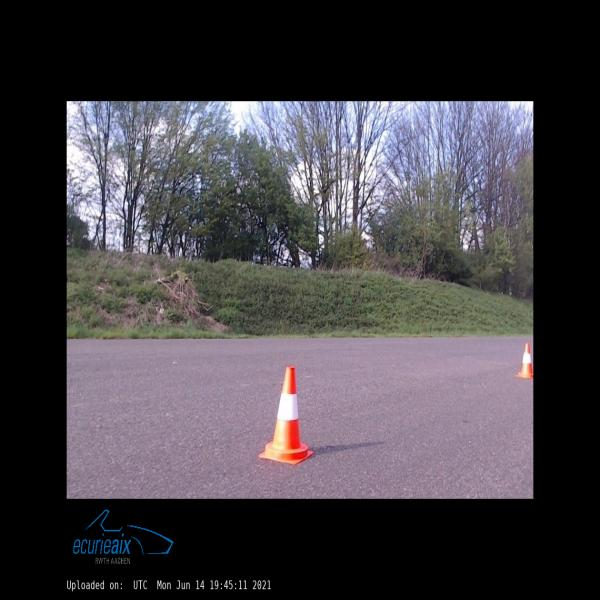orange_cone: (259, 366, 313, 465), (516, 343, 534, 378)
